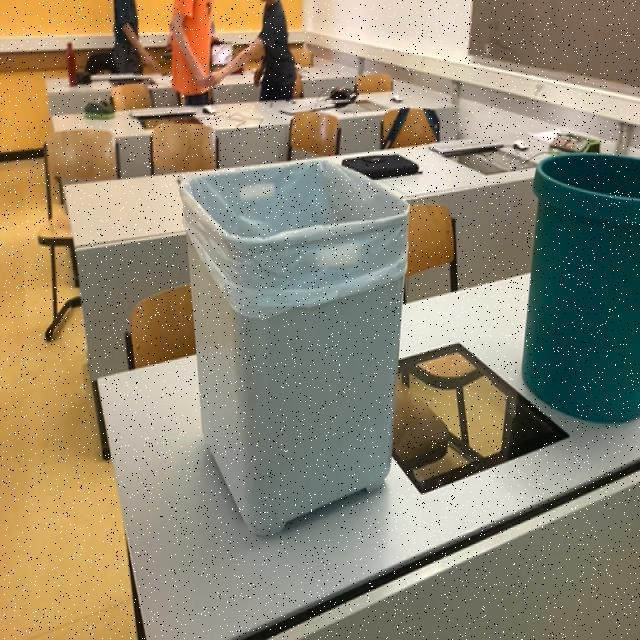garbage container: (166, 113, 442, 558), (505, 107, 640, 474)
